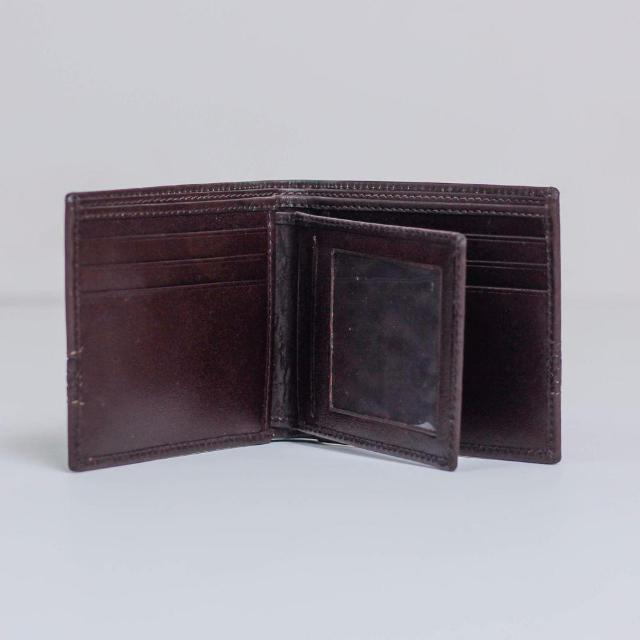wallet: (63, 183, 563, 469)
